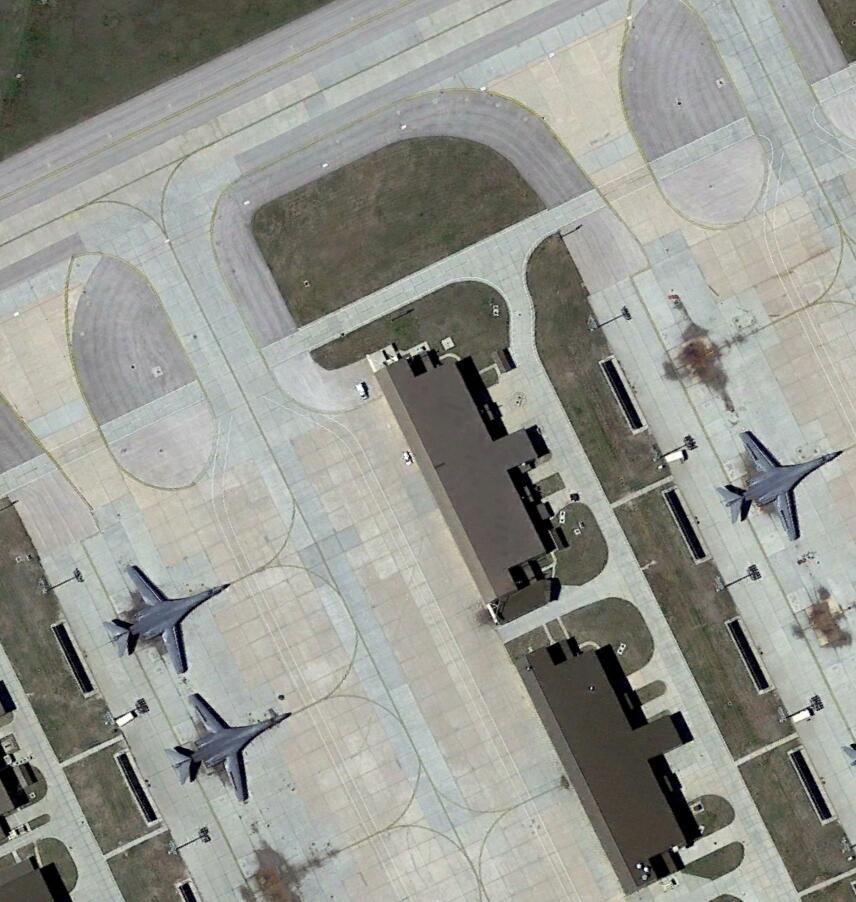A10: (713, 426, 855, 544), (162, 687, 296, 808), (104, 558, 237, 675)
